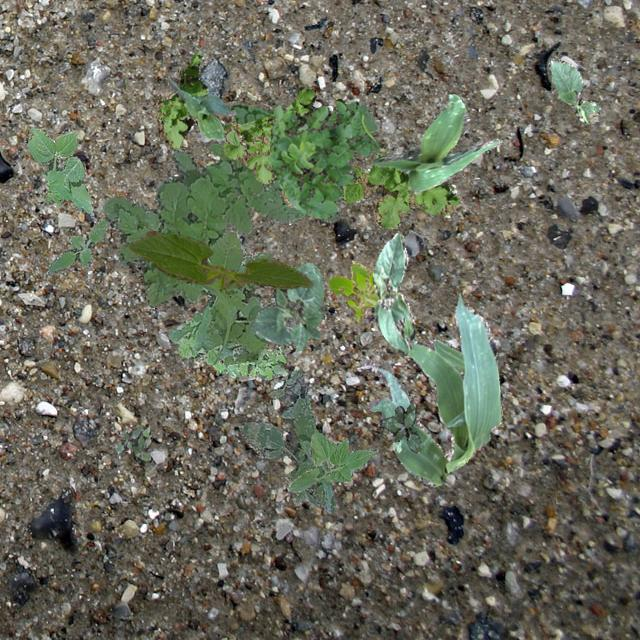crop: (356, 294, 502, 486), (373, 94, 502, 192), (127, 230, 310, 288), (250, 262, 326, 350), (288, 432, 377, 491), (372, 230, 414, 354), (168, 76, 235, 140), (546, 56, 600, 122)
weed: (100, 100, 378, 306), (156, 51, 458, 228), (168, 226, 276, 364), (238, 368, 334, 514), (266, 98, 378, 218), (27, 125, 92, 212), (46, 218, 110, 272), (328, 260, 378, 320), (212, 344, 286, 378), (380, 404, 422, 452), (116, 424, 150, 459)
